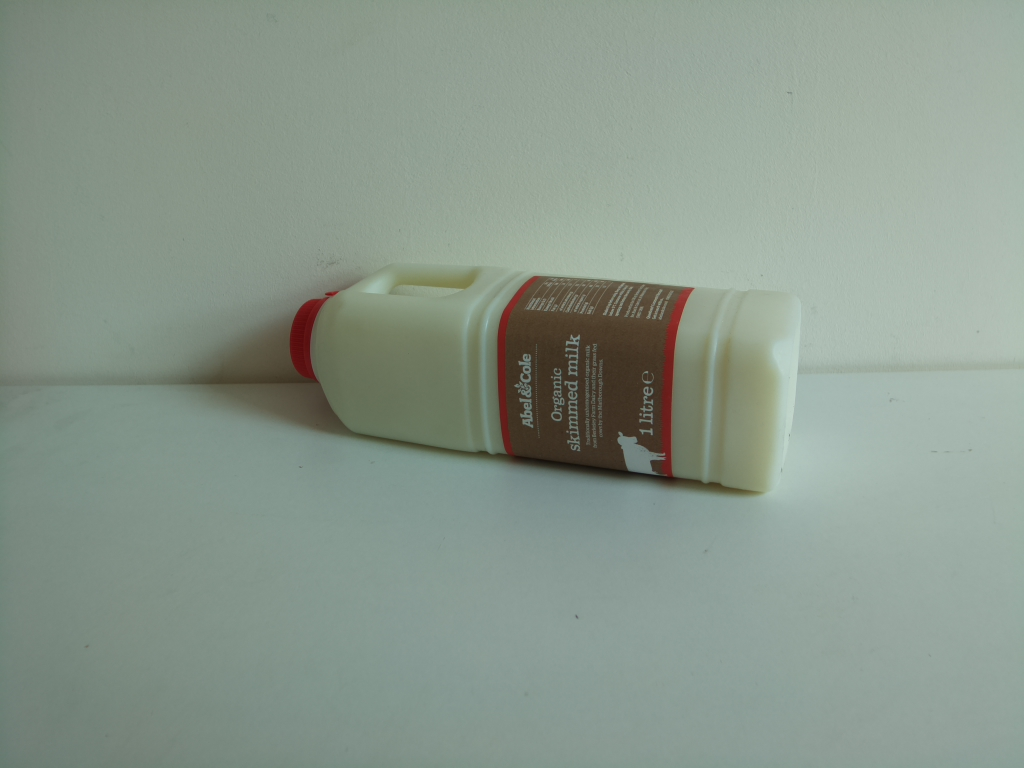milk: (287, 266, 803, 505)
